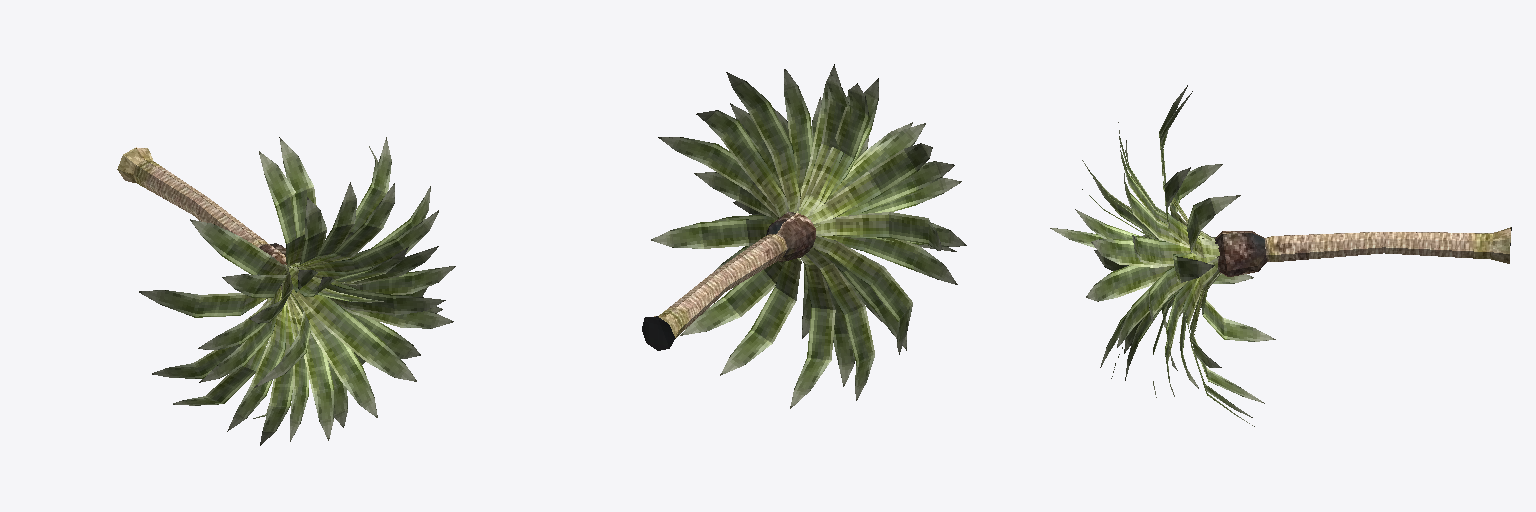
3 renders of one model, left to right at view 1: azimuth 30°, elevation 25°; view 2: azimuth 150°, elevation 25°; view 3: azimuth 270°, elevation 25°, orthographic.
Parts seen in each view (by area): view 1: ENV_MP_Iraq_PalmTree_01; view 2: ENV_MP_Iraq_PalmTree_01; view 3: ENV_MP_Iraq_PalmTree_01.
Boxes of the visible parts, x1,y1,x2,y2 form: ENV_MP_Iraq_PalmTree_01: [117, 137, 455, 445]; ENV_MP_Iraq_PalmTree_01: [642, 64, 966, 408]; ENV_MP_Iraq_PalmTree_01: [1050, 85, 1511, 426].
Bounding box in the file's own units: 80.89 × 81.82 × 111.
Materials: 2 (2 with a texture image).